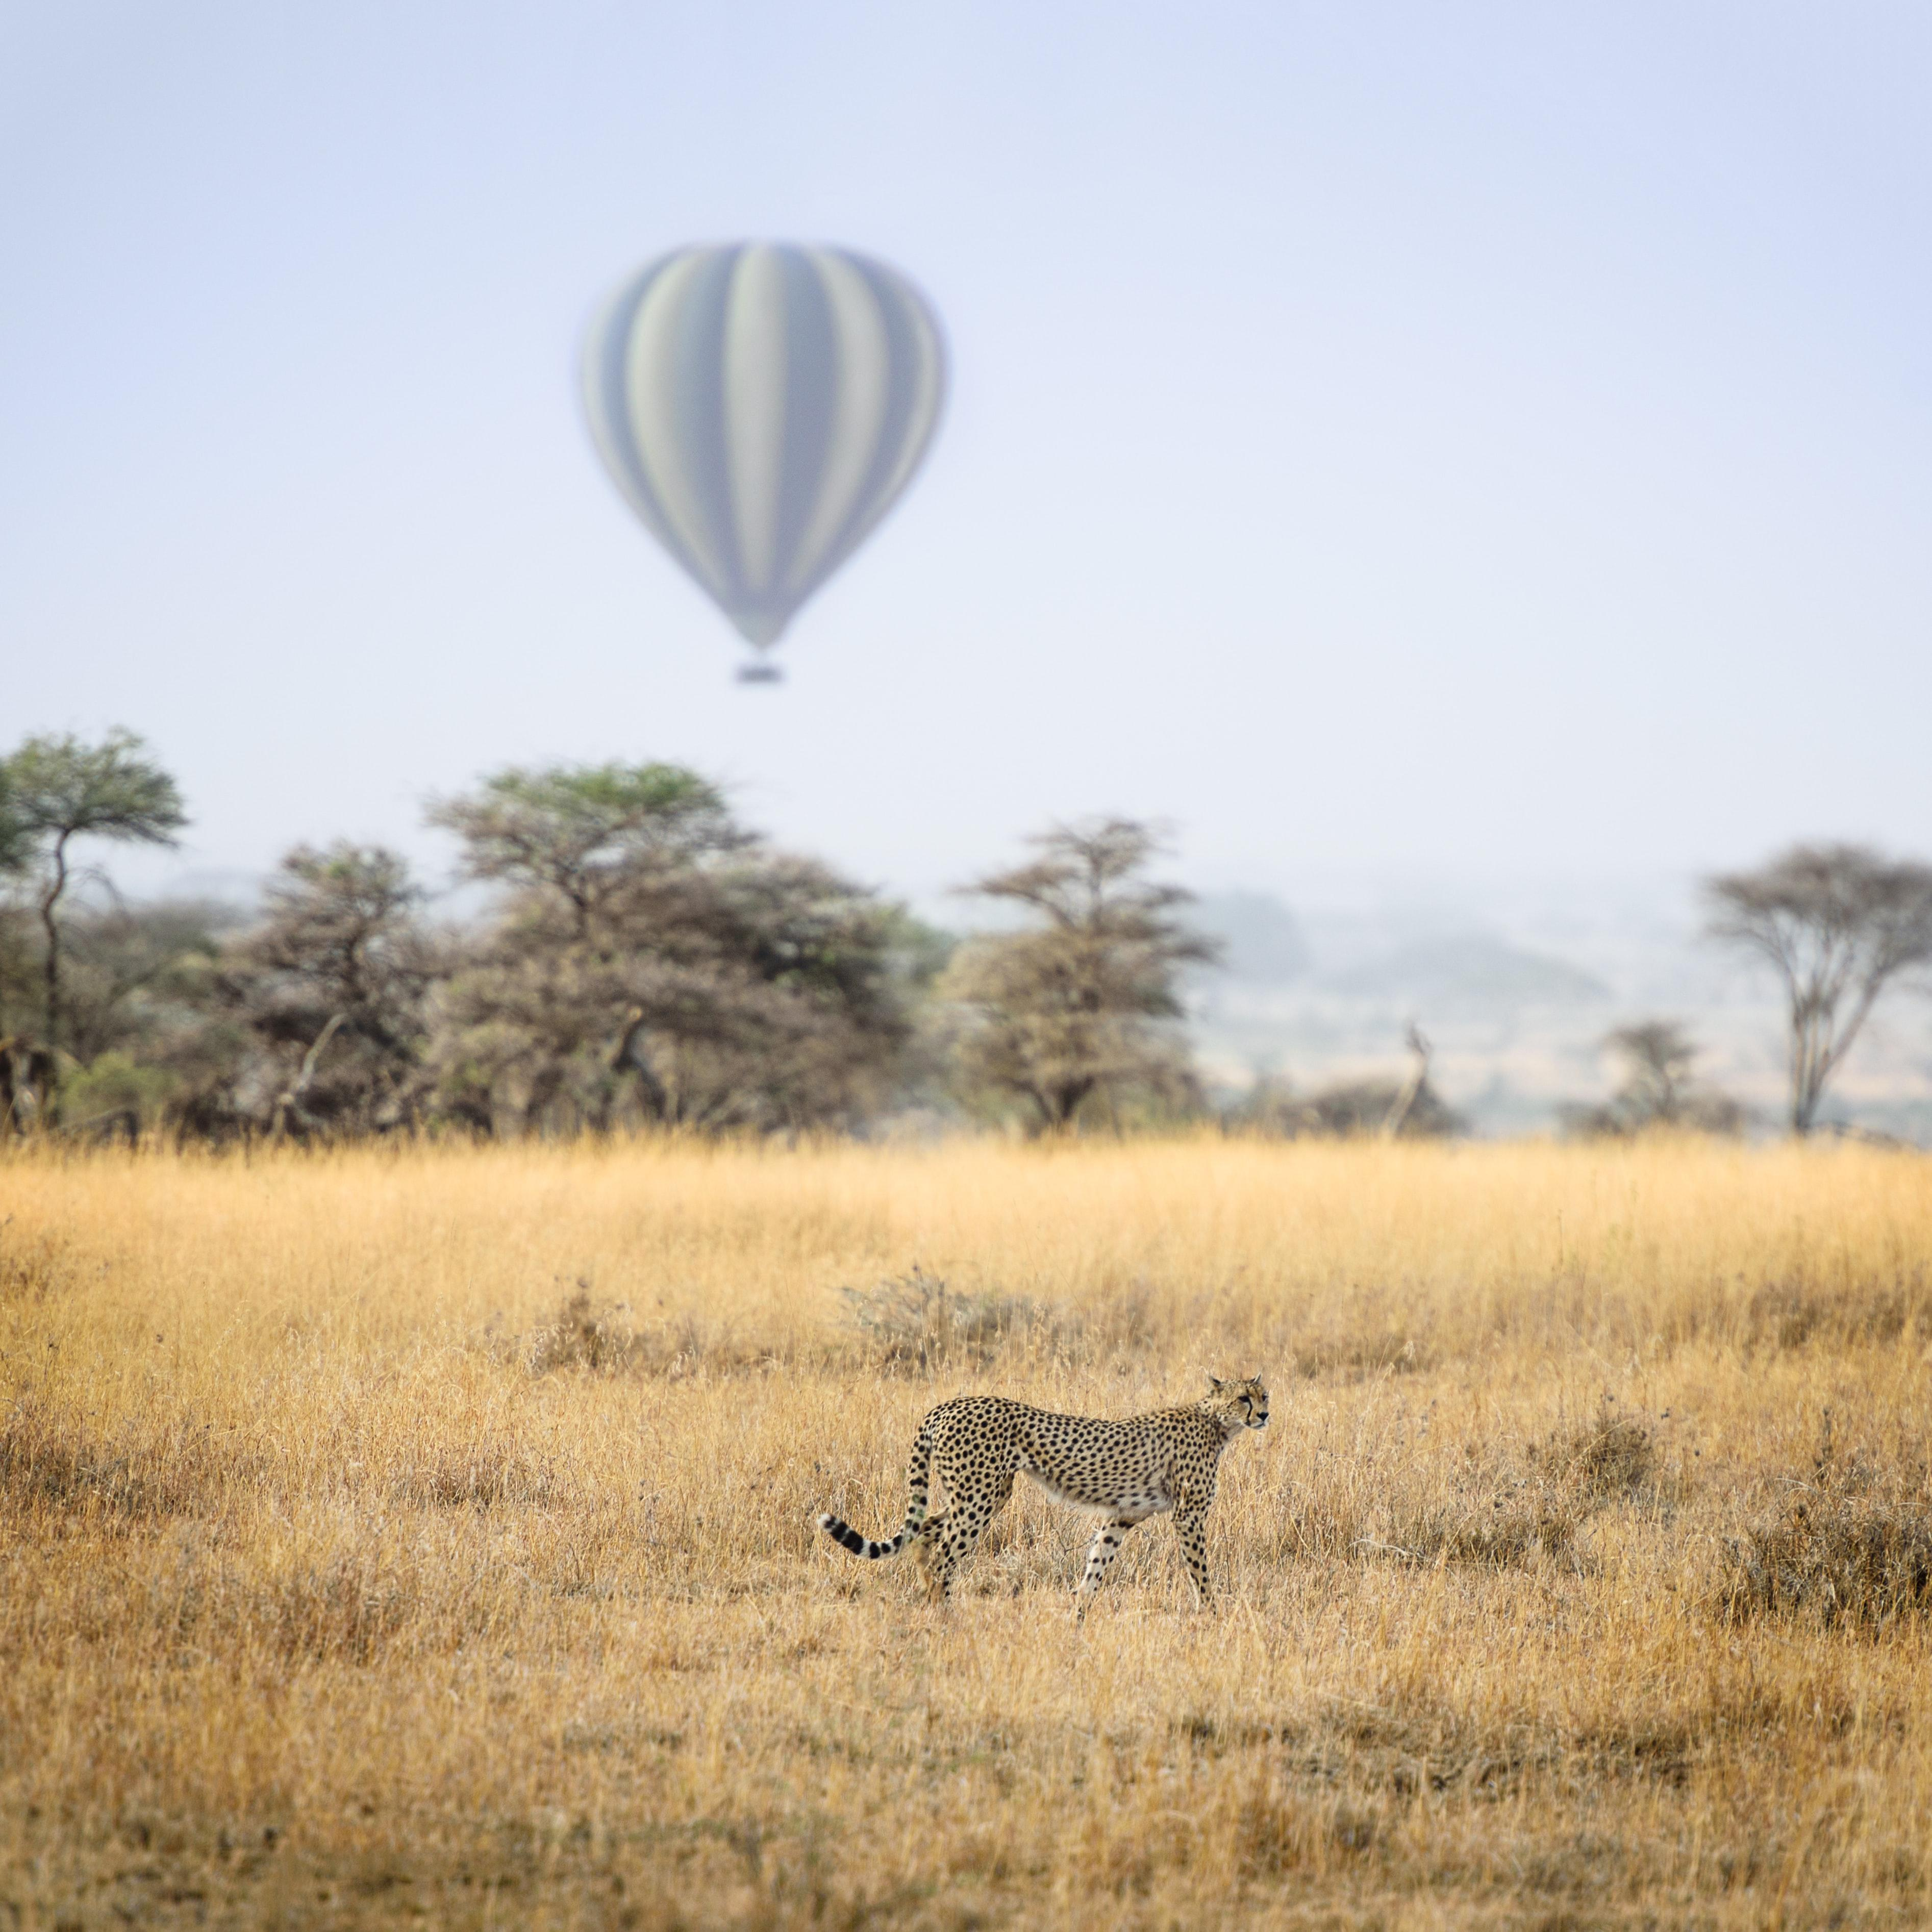hot air ballon: (575, 246, 948, 681)
